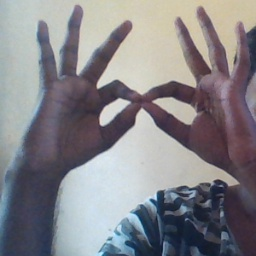B: (90, 50, 204, 159)
